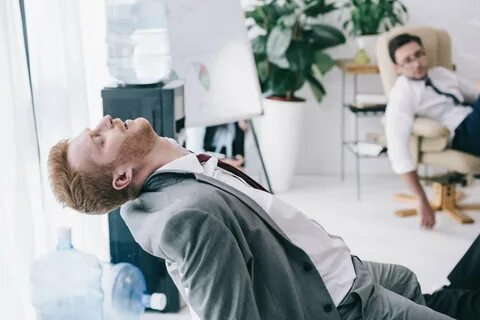sleep: (46, 114, 458, 320), (383, 32, 480, 230)
